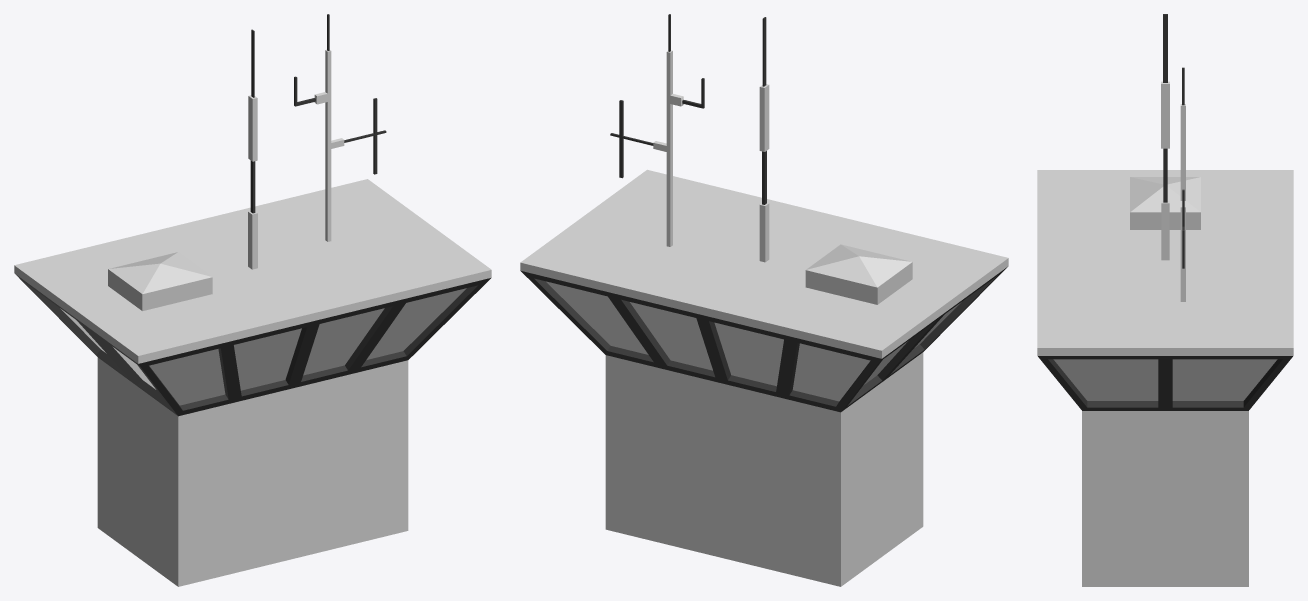
The model's file is control_tower.fbx.
The picture shows the model from 3 angles, left to right: view 1: azimuth 30°, elevation 25°; view 2: azimuth 150°, elevation 25°; view 3: azimuth 270°, elevation 25°; orthographic projection. The views are drawn at different scales.
Visible parts, largest first — view 1: control_tower; view 2: control_tower; view 3: control_tower.
Boxes of the visible parts, box(x1,y1,x2,y2) form: control_tower: box(14, 14, 491, 586); control_tower: box(520, 14, 1008, 586); control_tower: box(1037, 14, 1293, 586).
Bounding box in the file's own units: 1438 × 1938 × 874.
